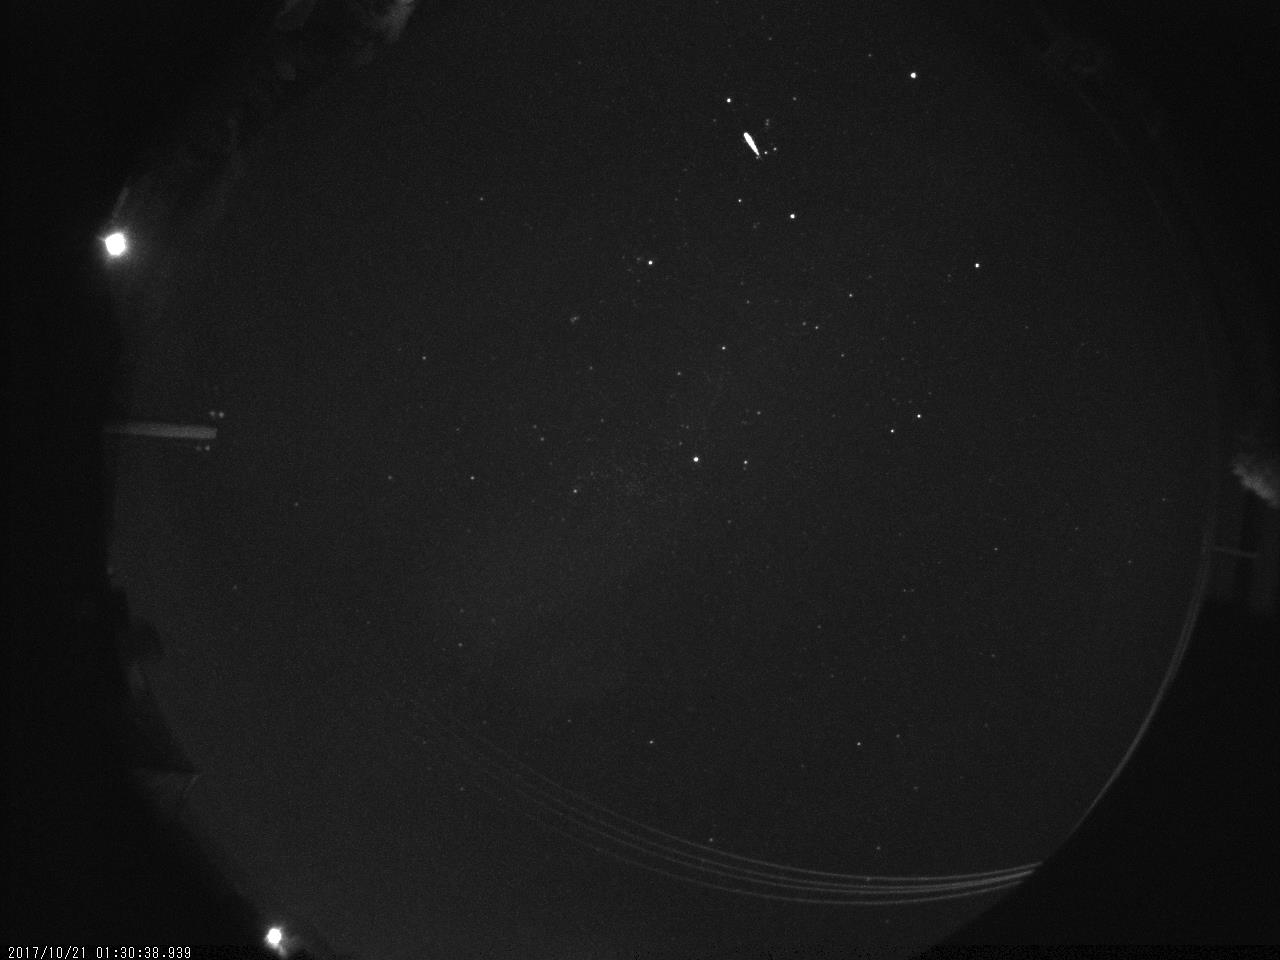meteor: (732, 129, 767, 162)
